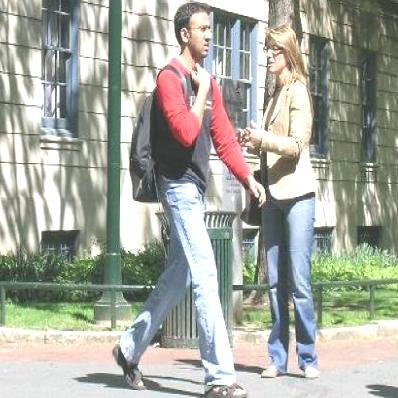ped: (115, 1, 268, 398), (243, 26, 321, 379)
